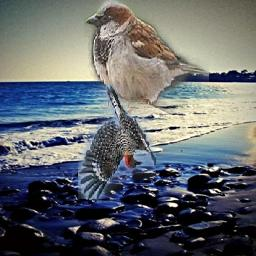Sparrow: (85, 1, 210, 116)
Woodpecker: (78, 85, 156, 200)
